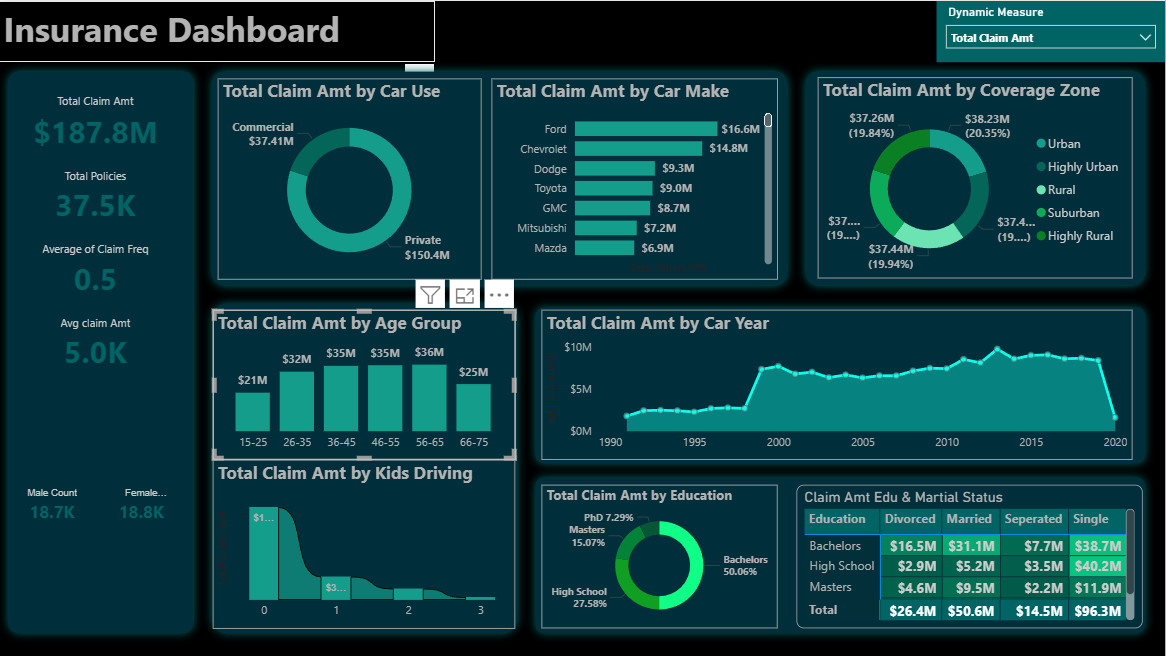

The page's visual inventory and layout, read from the dashboard file:
{"tool":"powerbi","page":{"name":"Page 1","canvas":[1280,720],"ordinal":0},"visuals":[{"type":"textbox","box":[0,0,478.9,67.2],"z":0},{"type":"shape","box":[0,67.2,223.7,636.7],"z":1000},{"type":"cardVisual","fields":{"Data":["insurance_data_car.Total Claim Amount","insurance_data_car.Total Policies","Avg(insurance_data_car.Claim Freq)","insurance_data_car.Avg claim Amt"]},"box":[16.5,85.1,179.8,329.3],"z":2000},{"type":"cardVisual","fields":{"Data":["insurance_data_car.male","insurance_data_car.Female"]},"box":[8.2,517.3,199,71.4],"z":3000},{"type":"slicer","fields":{"Values":["Dynamic Measure.Dynamic Measure"]},"box":[1029.2,0,251.1,67.2],"z":4000},{"type":"shape","box":[223.7,67.2,651.8,255.2],"z":5000},{"type":"donutChart","fields":{"Y":["insurance_data_car.Total Claim Amt"],"Category":["insurance_data_car.Car Use"]},"box":[240.1,85.1,289.5,220.9],"z":6000},{"type":"barChart","fields":{"Y":["insurance_data_car.Total Claim Amt"],"Category":["insurance_data_car.Car Make"]},"box":[540.7,85.1,314.2,220.9],"z":7000},{"type":"shape","box":[875.5,67.2,392.5,255.2],"z":8000},{"type":"donutChart","fields":{"Y":["insurance_data_car.Total Claim Amt"],"Category":["insurance_data_car.Coverage Zone"]},"box":[898.8,83.7,345.8,220.9],"z":9000},{"type":"shape","box":[579.1,513.2,688.9,190.7],"z":9500},{"type":"shape","box":[223.7,322.5,355.4,381.5],"z":10000},{"type":"clusteredColumnChart","fields":{"Y":["insurance_data_car.Total Claim Amt"],"Category":["insurance_data_car.Age Group"]},"box":[234.6,338.9,332.1,164.7],"z":11000},{"type":"ribbonChart","fields":{"Y":["insurance_data_car.Total Claim Amt"],"Category":["insurance_data_car.Kids Driving"]},"box":[234.6,503.6,332.1,185.2],"z":12000},{"type":"shape","box":[579.1,326.6,688.9,190.7],"z":13000},{"type":"areaChart","fields":{"Y":["insurance_data_car.Total Claim Amt"],"Category":["insurance_data_car.Car Year"]},"box":[595.5,338.9,649.1,164.7],"z":14000},{"type":"pieChart","fields":{"Y":["insurance_data_car.Total Claim Amt"],"Category":["insurance_data_car.Education"]},"box":[595.5,531,259.3,157.8],"z":16000},{"type":"pivotTable","title":"Claim Amt Edu & Martial Status","fields":{"Rows":["insurance_data_car.Education"],"Columns":["insurance_data_car.Marital Status"],"Values":["insurance_data_car.Total Claim Amt"]},"box":[875.5,531,380.1,157.8],"z":17000}]}

Visuals, with their boxes in screenshot pixels (x1, y1, x2, y2), scaled from the page's 1280x720 canvas onto the 1166x656 screenshot:
textbox: (left=0, top=0, right=436, bottom=61)
shape: (left=0, top=61, right=204, bottom=641)
cardVisual - insurance_data_car.Total Claim Amount x insurance_data_car.Total Policies: (left=15, top=78, right=179, bottom=378)
cardVisual - insurance_data_car.male x insurance_data_car.Female: (left=7, top=471, right=189, bottom=536)
slicer - Dynamic Measure.Dynamic Measure: (left=938, top=0, right=1165, bottom=61)
shape: (left=204, top=61, right=798, bottom=294)
donutChart - insurance_data_car.Total Claim Amt x insurance_data_car.Car Use: (left=219, top=78, right=482, bottom=279)
barChart - insurance_data_car.Total Claim Amt x insurance_data_car.Car Make: (left=493, top=78, right=779, bottom=279)
shape: (left=798, top=61, right=1155, bottom=294)
donutChart - insurance_data_car.Total Claim Amt x insurance_data_car.Coverage Zone: (left=819, top=76, right=1134, bottom=278)
shape: (left=528, top=468, right=1155, bottom=641)
shape: (left=204, top=294, right=528, bottom=641)
clusteredColumnChart - insurance_data_car.Total Claim Amt x insurance_data_car.Age Group: (left=214, top=309, right=516, bottom=459)
ribbonChart - insurance_data_car.Total Claim Amt x insurance_data_car.Kids Driving: (left=214, top=459, right=516, bottom=628)
shape: (left=528, top=298, right=1155, bottom=471)
areaChart - insurance_data_car.Total Claim Amt x insurance_data_car.Car Year: (left=542, top=309, right=1134, bottom=459)
pieChart - insurance_data_car.Total Claim Amt x insurance_data_car.Education: (left=542, top=484, right=779, bottom=628)
"Claim Amt Edu & Martial Status" pivotTable: (left=798, top=484, right=1144, bottom=628)
